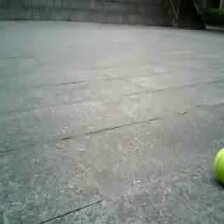tennis: (215, 149, 224, 180)
